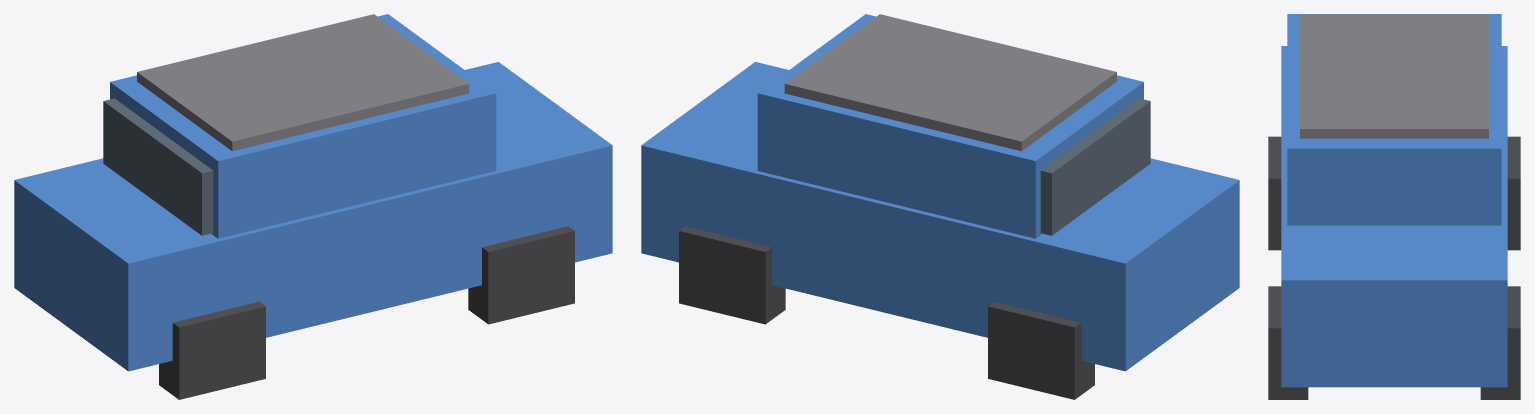
File: AED_Car4x4.gltf
The picture shows the model from 3 angles, left to right: view 1: azimuth 30°, elevation 25°; view 2: azimuth 150°, elevation 25°; view 3: azimuth 270°, elevation 25°; orthographic projection.
Parts seen in each view (by area): view 1: AED_Car4x4; view 2: AED_Car4x4; view 3: AED_Car4x4.
Part boxes in pixels (x1=…): AED_Car4x4: x1=14, y1=14, x2=612, y2=399; AED_Car4x4: x1=641, y1=14, x2=1239, y2=399; AED_Car4x4: x1=1268, y1=14, x2=1520, y2=399.
Bounding box in the file's own units: 4.7 × 2.13 × 2.14.
